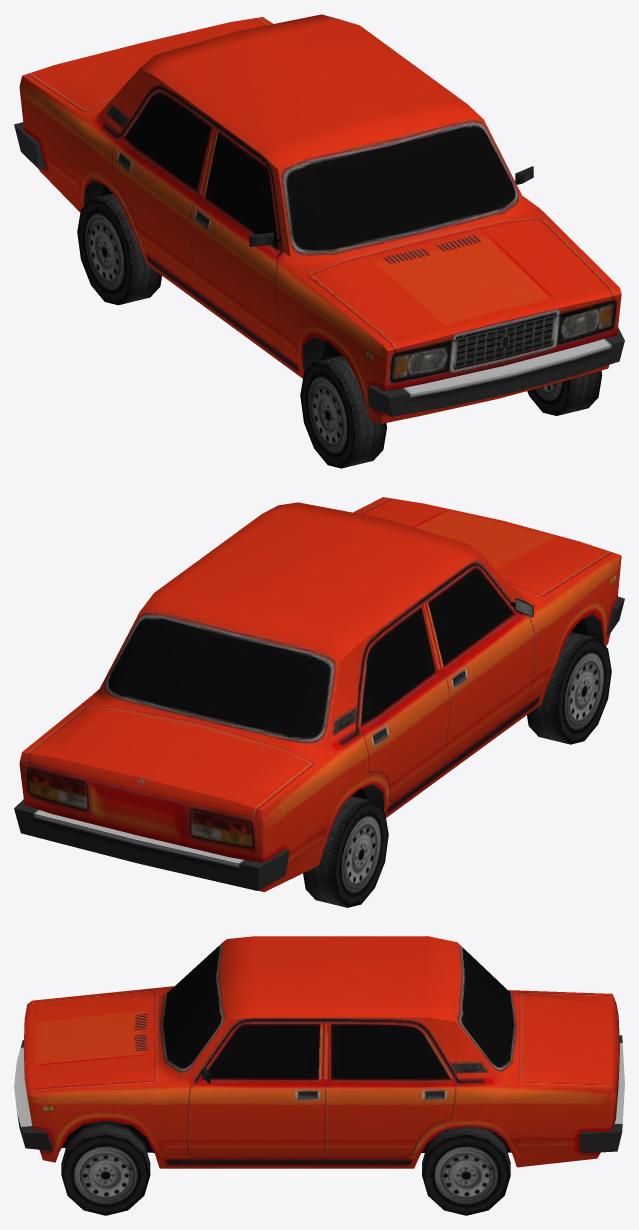
The model's file is sedan_orange.glb.
3 renders of one model, top to bottom at view 1: azimuth 30°, elevation 25°; view 2: azimuth 150°, elevation 25°; view 3: azimuth 270°, elevation 25°, orthographic. The views are drawn at different scales.
Visible parts, largest first — view 1: Body; view 2: Body; view 3: Body.
Part boxes in pixels (<box>): Body: <box>14,14,624,468</box>; Body: <box>14,497,624,907</box>; Body: <box>14,936,624,1215</box>.
Size of the model in its own units: 1.78 by 1.5 by 4.1.
2 materials, 1 textured.
